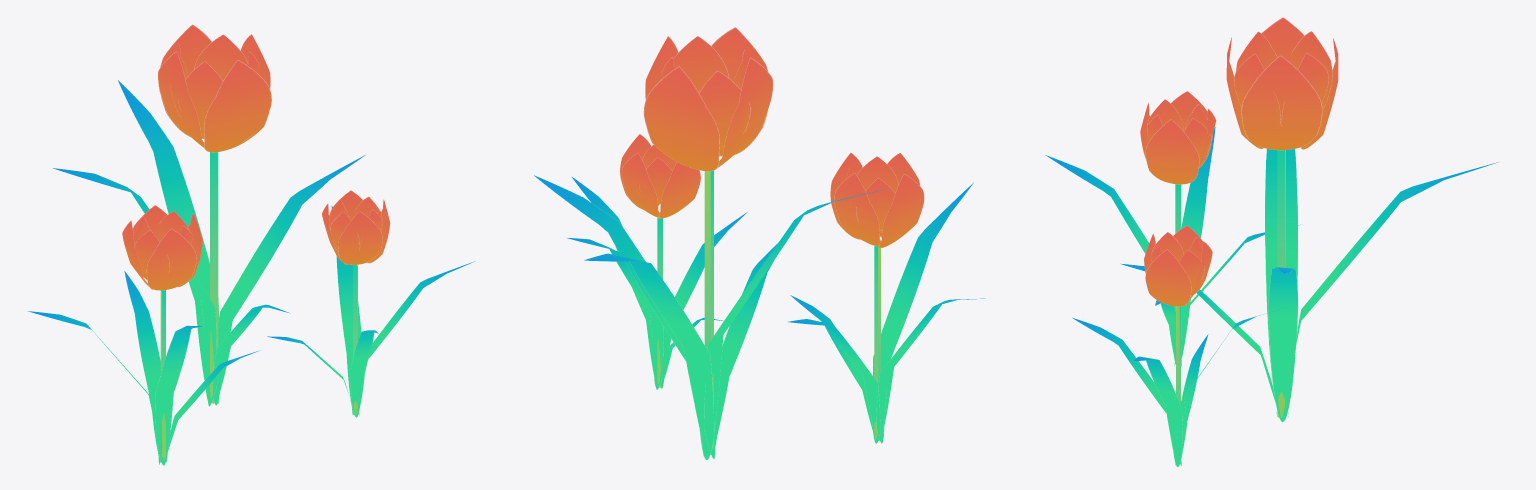
File: Flowers_n02_15.fbx
3 renders of one model, left to right at view 1: azimuth 30°, elevation 25°; view 2: azimuth 150°, elevation 25°; view 3: azimuth 270°, elevation 25°, orthographic. The views are drawn at different scales.
Parts seen in each view (by area): view 1: polySurface249; view 2: polySurface249; view 3: polySurface249.
Boxes of the visible parts, left/top/right/bottom form: polySurface249: left=27, top=24, right=474, bottom=465; polySurface249: left=534, top=27, right=985, bottom=460; polySurface249: left=1045, top=17, right=1499, bottom=467.
Size of the model in its own units: 49.22 by 41.42 by 45.8.
1 material, 1 textured.
